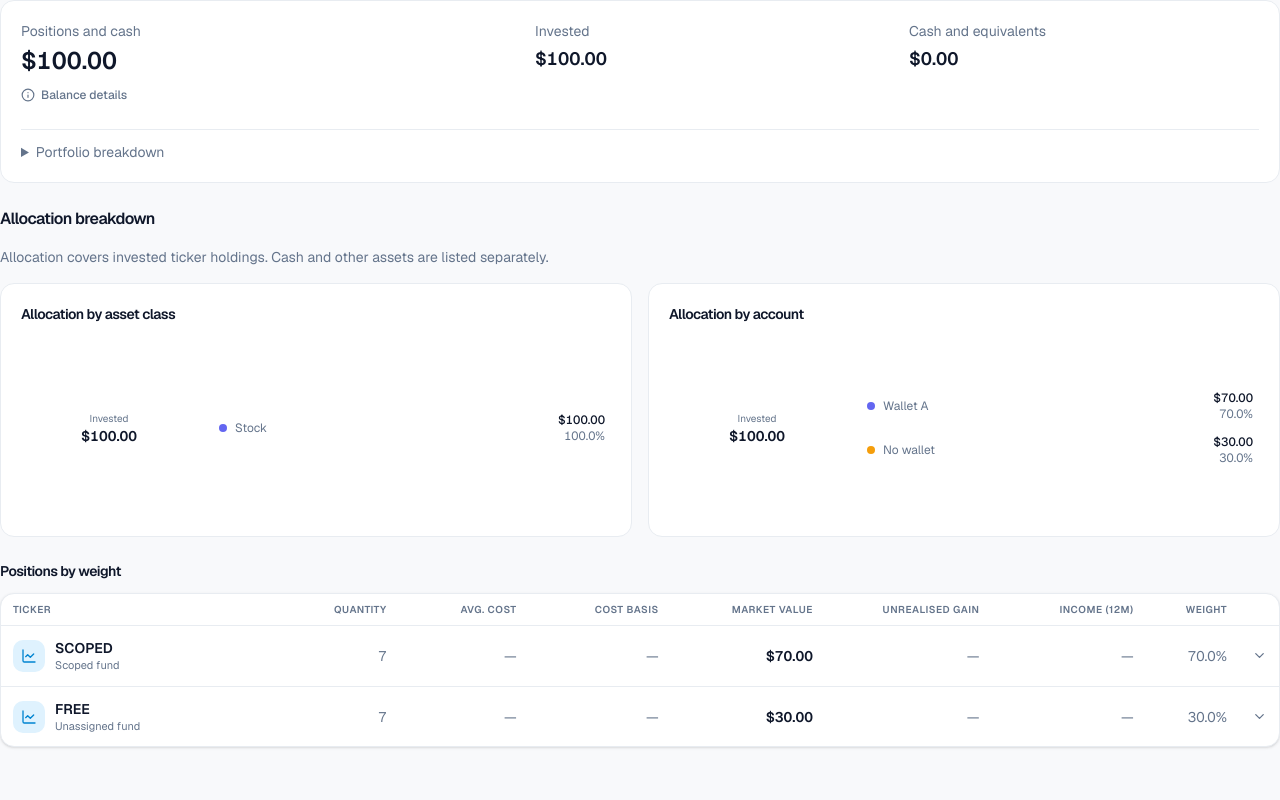
Test case: full portfolio details include the unassigned holding counted in the overview
The width and height of the screenshot is (1280, 800).
Expected: the text "$100.00" below "Positions and cash" is shown, [21,45,117,76]
Click the button with aria-label "Balance details:". click: (74, 95)
box: [21,77,127,113]
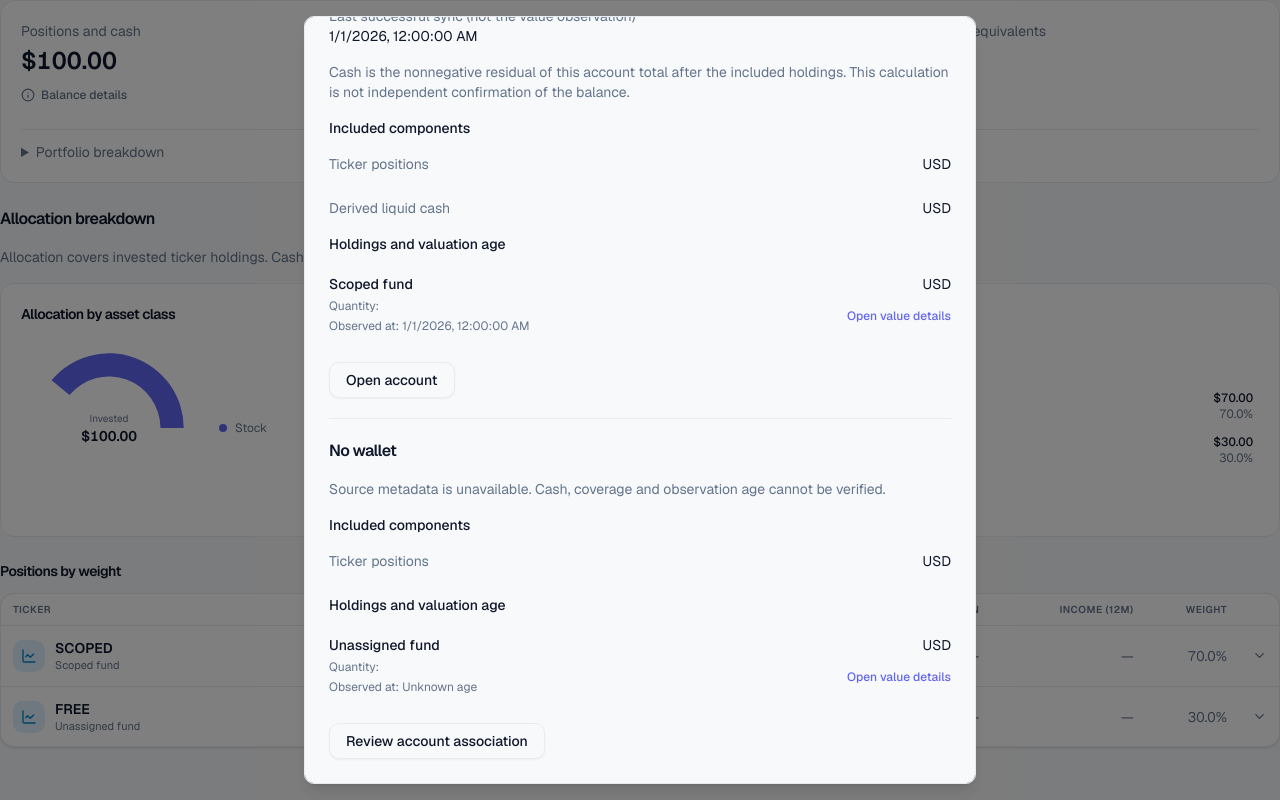
Now the text "Unassigned fund" is shown, box [329,636,440,654]
